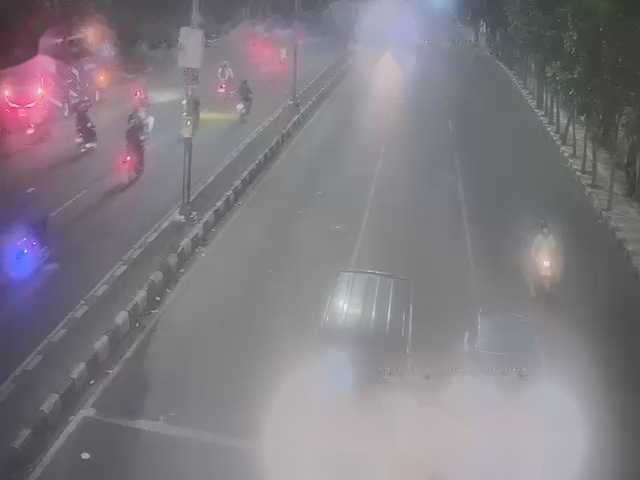Bis: (4, 11, 109, 117)
Mobil: (326, 268, 419, 451), (467, 309, 548, 444)
Motor: (521, 223, 559, 292), (120, 149, 148, 180), (237, 78, 253, 115), (72, 126, 94, 147), (133, 87, 149, 103)
